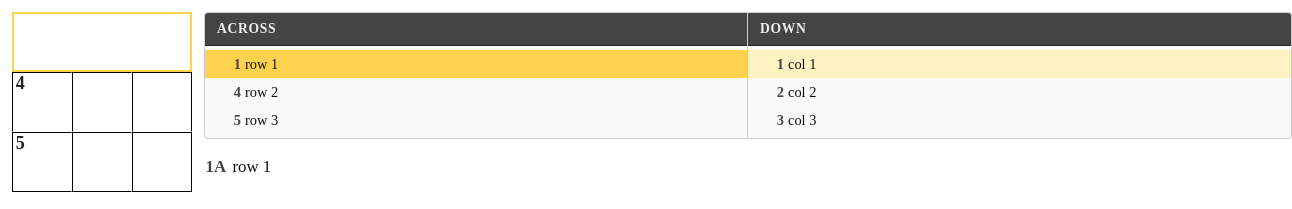
Scenario: PuzzleView happy path › Shift+Enter opens the rebus overlay; typing + Enter commits a multi-char fill
Type "BLOCK" into the overlay.
Type "BLOCK" into the field named "Rebus entry". click: (102, 42)
box: [12,12,192,72]
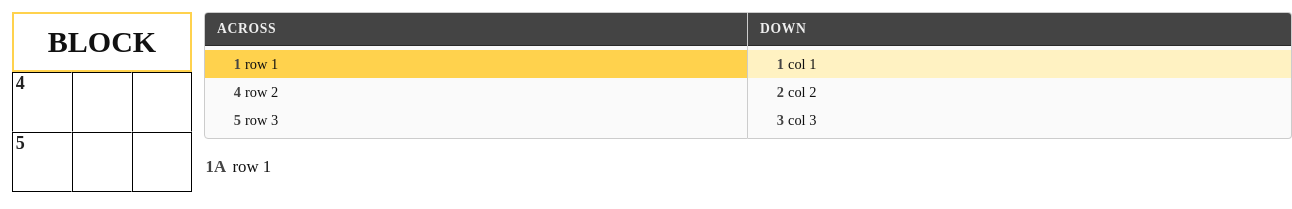
Commit on Enter.
Press Enter in the field named "Rebus entry", box [12,12,192,72]
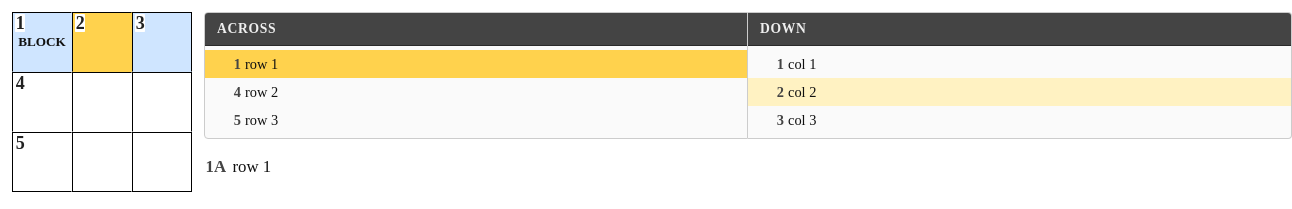
Expected: the text "BLOCK" is shown, [18,34,66,50]
